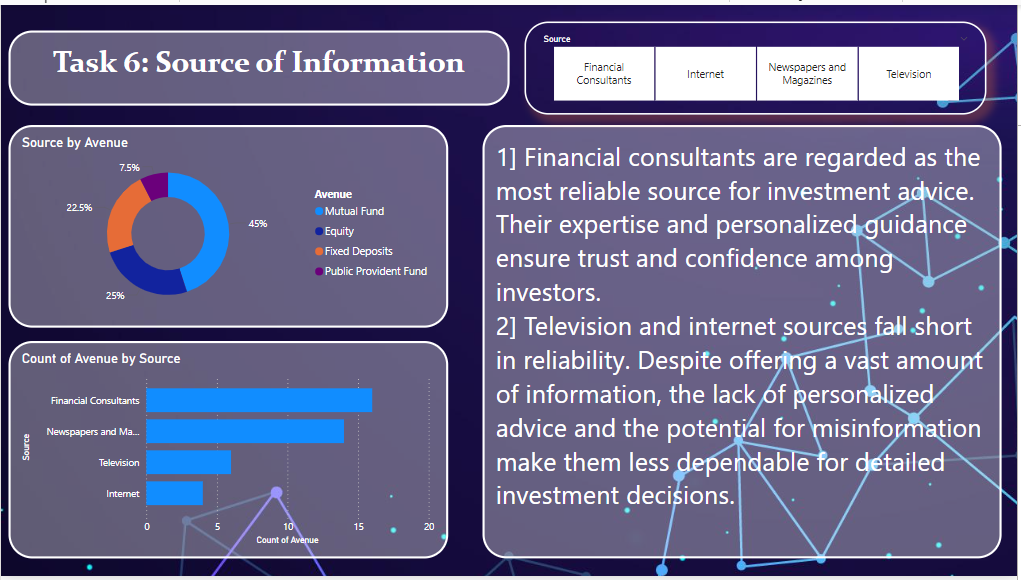

Layout of this report page (visuals, bound fields, positions):
{"tool":"powerbi","page":{"name":"Page 1","canvas":[1280,720],"ordinal":0},"visuals":[{"type":"columnChart","title":"Age by Savings objectives","fields":{"Y":["CountNonNull(Data_set 22.age)"],"Category":["Data_set 22.What are your savings objectives?"]},"box":[15.1,62.4,342,279.7],"z":0},{"type":"clusteredBarChart","title":"Avenues by Duration","fields":{"Category":["Data_set 22.Duration"],"Y":["CountNonNull(Data_set 22.Avenue)"]},"box":[376.1,372.3,342,279.7],"z":1000},{"type":"card","fields":{"Values":["Sum(Data_set 22.fixed Deposits)"]},"box":[744.6,62.4,230.6,139.8],"z":2000},{"type":"card","fields":{"Values":["Sum(Data_set 22.mutual Fund)"]},"box":[740.8,217.3,234.3,124.7],"z":3000},{"type":"card","fields":{"Values":["Sum(Data_set 22.public Provident Fund)"]},"box":[744.6,525.4,234.3,126.6],"z":4000},{"type":"card","fields":{"Values":["Sum(Data_set 22.equity)"]},"box":[744.6,372.3,234.3,139.8],"z":5000},{"type":"donutChart","title":"Reason Mutual by Invest Monitor","fields":{"Category":["Data_set 22.Invest_Monitor"],"Y":["CountNonNull(Data_set 22.Reason_Mutual)"]},"box":[15.1,372.3,342,279.7],"z":6000},{"type":"donutChart","title":"Reason Mutual by Invest Monitor","fields":{"Category":["Data_set 22.Source"],"Y":["CountNonNull(Data_set 22.Avenue)"]},"box":[376.1,62.4,342,279.7],"z":7000},{"type":"slicer","fields":{"Values":["Data_set 22.Reason_Mutual"]},"box":[1012.9,56.7,232.4,595.3],"z":8000}]}

Visuals, with their boxes in screenshot pixels (x1, y1, x2, y2), scaled from the page's 1280x720 canvas onto the 1021x580 screenshot:
"Age by Savings objectives" columnChart: bbox=(12, 50, 285, 276)
"Avenues by Duration" clusteredBarChart: bbox=(300, 300, 573, 525)
card - Sum(Data_set 22.fixed Deposits): bbox=(594, 50, 778, 163)
card - Sum(Data_set 22.mutual Fund): bbox=(591, 175, 778, 276)
card - Sum(Data_set 22.public Provident Fund): bbox=(594, 423, 781, 525)
card - Sum(Data_set 22.equity): bbox=(594, 300, 781, 413)
"Reason Mutual by Invest Monitor" donutChart: bbox=(12, 300, 285, 525)
"Reason Mutual by Invest Monitor" donutChart: bbox=(300, 50, 573, 276)
slicer - Data_set 22.Reason_Mutual: bbox=(808, 46, 993, 525)
